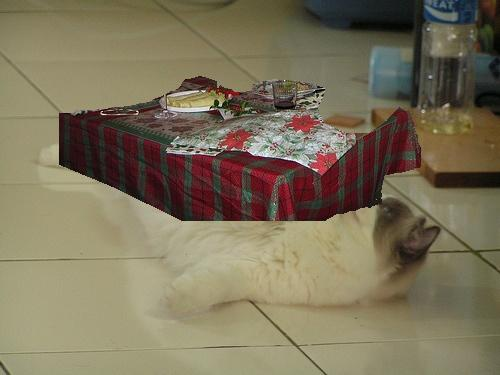tampered: (60, 77, 421, 221)
